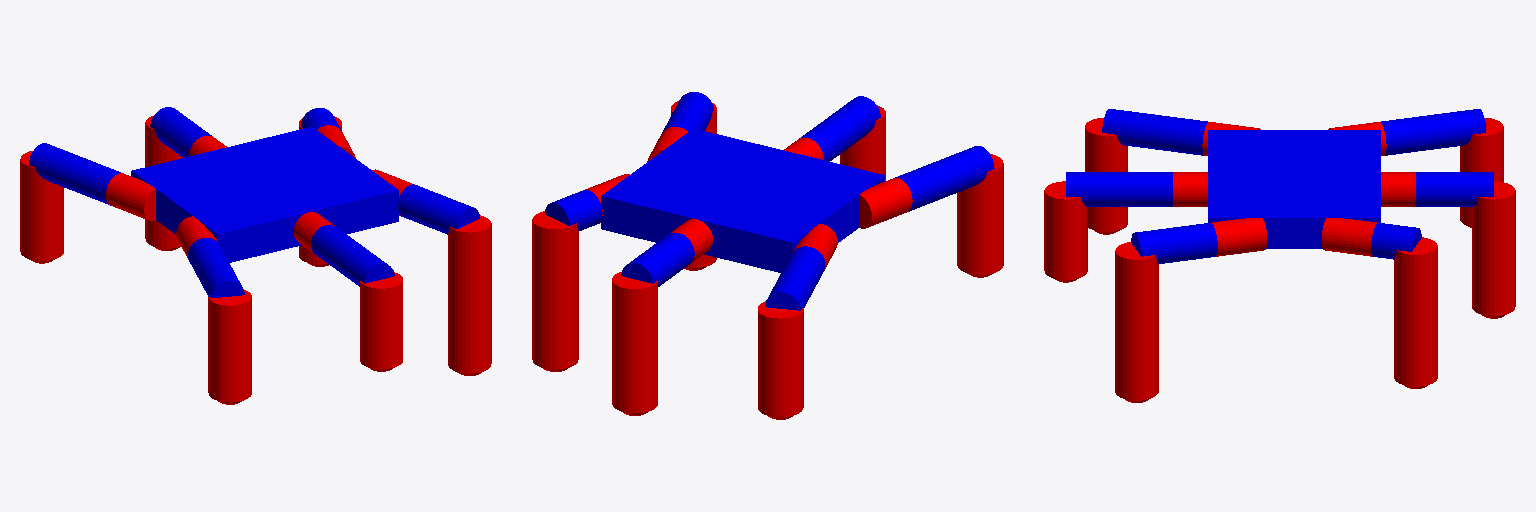
--- What the picture shows (computed from the rendered views, not written in the file) ---
Views: 3 orthographic renders of the robot side by side, from view 1: azimuth 30°, elevation 25°; view 2: azimuth 150°, elevation 25°; view 3: azimuth 270°, elevation 25°.
Model pexod with 19 links and 18 joints (18 revolute), rooted at base_link, posed every joint at zero.
Links seen in each view (by area): view 1: base_link, leg_3_3, leg_5_3, leg_4_3, leg_0_3, leg_0_2, leg_4_2, leg_3_2, leg_5_2, leg_0_1, leg_1_2, leg_1_3 (+3 smaller); view 2: base_link, leg_2_3, leg_1_3, leg_0_3, leg_5_3, leg_5_2, leg_4_2, leg_0_2, leg_1_2, leg_5_1, leg_4_3, leg_2_2 (+4 smaller); view 3: base_link, leg_3_3, leg_2_3, leg_1_3, leg_4_3, leg_4_2, leg_5_2, leg_0_2, leg_5_3, leg_3_2, leg_1_2, leg_0_3 (+5 smaller).
Link boxes in pixels (x1=…): base_link: x1=131, y1=127, x2=398, y2=262; leg_3_3: x1=448, y1=215, x2=491, y2=375; leg_5_3: x1=208, y1=290, x2=251, y2=404; leg_4_3: x1=360, y1=272, x2=402, y2=371; leg_0_3: x1=20, y1=151, x2=63, y2=263; leg_0_2: x1=29, y1=143, x2=120, y2=205; leg_4_2: x1=311, y1=225, x2=394, y2=286; leg_3_2: x1=398, y1=184, x2=479, y2=234; leg_5_2: x1=188, y1=238, x2=244, y2=297; leg_0_1: x1=106, y1=173, x2=155, y2=220; leg_1_2: x1=150, y1=107, x2=211, y2=157; leg_1_3: x1=145, y1=116, x2=182, y2=250; base_link: x1=601, y1=128, x2=884, y2=272; leg_2_3: x1=532, y1=211, x2=578, y2=371; leg_1_3: x1=612, y1=272, x2=657, y2=415; leg_0_3: x1=758, y1=301, x2=803, y2=419; leg_5_3: x1=957, y1=154, x2=1003, y2=277; leg_5_2: x1=895, y1=146, x2=994, y2=211; leg_4_2: x1=799, y1=96, x2=880, y2=161; leg_0_2: x1=765, y1=246, x2=824, y2=310; leg_1_2: x1=621, y1=232, x2=694, y2=286; leg_5_1: x1=859, y1=178, x2=912, y2=228; leg_4_3: x1=840, y1=105, x2=885, y2=180; leg_2_2: x1=545, y1=190, x2=602, y2=230; base_link: x1=1208, y1=130, x2=1380, y2=248; leg_3_3: x1=1115, y1=242, x2=1158, y2=402; leg_2_3: x1=1394, y1=237, x2=1437, y2=388; leg_1_3: x1=1472, y1=181, x2=1515, y2=318; leg_4_3: x1=1044, y1=181, x2=1087, y2=282; leg_4_2: x1=1066, y1=172, x2=1172, y2=206; leg_5_2: x1=1102, y1=109, x2=1207, y2=155; leg_0_2: x1=1381, y1=109, x2=1485, y2=155; leg_5_3: x1=1085, y1=118, x2=1127, y2=234; leg_3_2: x1=1131, y1=223, x2=1217, y2=263; leg_1_2: x1=1416, y1=172, x2=1493, y2=206; leg_0_3: x1=1460, y1=118, x2=1503, y2=227.
Size in the robot's own frame: 0.3883 by 0.5433 by 0.2118 metres.
Geometry: primitives only (box / cylinder / sphere), no mesh files.

robot.urdf — pexod:
<?xml version="1.0" ?>
<!-- =================================================================================== -->
<!-- |    This document was autogenerated by xacro from pexod.xacro                    | -->
<!-- |    EDITING THIS FILE BY HAND IS NOT RECOMMENDED                                 | -->
<!-- =================================================================================== -->
<robot name="pexod" xmlns:xacro="http://www.ros.org/wiki/xacro">
  <!-- <xacro:include filename="$(find pexod_description)/urdf/pexod_control.xacro" /> -->
  <!-- MATERIALS -->
  <material name="Blue">
    <color rgba="0 0 1 1"/>
  </material>
  <material name="Red">
    <color rgba="1 0 0 1"/>
  </material>
  <material name="Green">
    <color rgba="0 1 0 1"/>
  </material>
  <material name="Yellow">
    <color rgba="1 1 0 1"/>
  </material>
  <material name="LightGrey">
    <color rgba="0.6 0.6 0.6 1.0"/>
  </material>
  <!-- END OF MATERIALS -->
  <!-- XACRO MACROS FOR VISUALS AND COLLISIONS -->
  <!-- END OF XACRO MACROS -->
  <!-- TORSO -->
  <link name="base_link">
    <visual>
      <origin rpy="0 0 0" xyz="0 0 0"/>
      <geometry>
        <box size="0.24 0.2 0.04"/>
      </geometry>
      <material name="Blue"/>
    </visual>
    <collision>
      <origin rpy="0 0 0" xyz="0 0 0"/>
      <geometry>
        <box size="0.24 0.2 0.04"/>
      </geometry>
    </collision>
    <inertial>
      <!-- CENTER OF MASS -->
      <origin rpy="0 0 0" xyz="0 0 0"/>
      <mass value="1.031"/>
      <!-- box inertia: 1/12*m(y^2+z^2), ... -->
      <inertia ixx="0.00357413333333" ixy="0" ixz="0" iyy="0.00508626666667" iyz="0" izz="0.00838546666667"/>
    </inertial>
  </link>
  <!-- XACRO MACRO FOR LEGS LINKS/JOINTS -->
  <!-- END OF LEG LINKS/JOINTS -->
  <joint name="body_leg_2" type="revolute">
    <parent link="base_link"/>
    <child link="leg_2_1"/>
    <limit effort="30.0" lower="-1.57079632679" upper="1.57079632679" velocity="7.0"/>
    <origin rpy="0 0 -0.3" xyz="0.11 0.04 0"/>
    <!-- <xacro:if value="${index == 5 or index == 4 or index == 3}">
                <axis xyz="0 0 1"/>
            </xacro:if>
            <xacro:if value="${index == 2 or index == 1 or index == 0}"> -->
    <axis xyz="0 0 1"/>
    <!-- </xacro:if> -->
    <dynamics damping="0.0"/>
  </joint>
  <link name="leg_2_1">
    <visual>
      <origin rpy="1.57079632679 0 0" xyz="0.01 0.03 0"/>
      <geometry>
        <cylinder length="0.06" radius="0.02"/>
      </geometry>
      <material name="Red"/>
    </visual>
    <collision>
      <origin rpy="1.57079632679 0 0" xyz="0.01 0.03 0"/>
      <geometry>
        <box size="0.02 0.02 0.06"/>
      </geometry>
    </collision>
    <inertial>
      <!-- CENTER OF MASS -->
      <origin rpy="1.57079632679 0 0" xyz="0.01 0.03 0"/>
      <mass value="0.02"/>
      <!-- box inertia: 1/12*m(y^2+z^2), ... -->
      <inertia ixx="6.66666666667e-06" ixy="0" ixz="0" iyy="6.66666666667e-06" iyz="0" izz="1.33333333333e-06"/>
    </inertial>
  </link>
  <joint name="leg_2_1_2" type="revolute">
    <parent link="leg_2_1"/>
    <child link="leg_2_2"/>
    <limit effort="30.0" lower="-0.78539816339" upper="0.78539816339" velocity="7.0"/>
    <origin rpy="0 0 0" xyz="0 0.06 0"/>
    <axis xyz="1 0 0"/>
    <dynamics damping="0.0"/>
  </joint>
  <link name="leg_2_2">
    <visual>
      <origin rpy="1.57079632679 0 0" xyz="0.01 0.0243115780468 0"/>
      <geometry>
        <cylinder length="0.0486231560936" radius="0.02"/>
      </geometry>
      <material name="Blue"/>
    </visual>
    <collision>
      <origin rpy="1.57079632679 0 0" xyz="0.01 0.0243115780468 0"/>
      <geometry>
        <box size="0.02 0.02 0.0486231560936"/>
      </geometry>
    </collision>
    <inertial>
      <!-- CENTER OF MASS -->
      <origin rpy="1.57079632679 0 0" xyz="0.01 0.0243115780468 0"/>
      <mass value="0.184"/>
      <!-- box inertia: 1/12*m(y^2+z^2), ... -->
      <inertia ixx="4.2384573397e-05" ixy="0" ixz="0" iyy="4.2384573397e-05" iyz="0" izz="1.22666666667e-05"/>
    </inertial>
  </link>
  <joint name="leg_2_2_3" type="revolute">
    <parent link="leg_2_2"/>
    <child link="leg_2_3"/>
    <limit effort="30.0" lower="-0.78539816339" upper="0.78539816339" velocity="7.0"/>
    <origin rpy="-1.57079632679 0 0" xyz="0 0.0486231560936 0"/>
    <axis xyz="-1 0 0"/>
    <dynamics damping="0.0"/>
  </joint>
  <link name="leg_2_3">
    <visual>
      <origin rpy="1.57079632679 0 0" xyz="0.0125 0.083790376403 0"/>
      <geometry>
        <cylinder length="0.167580752806" radius="0.025"/>
      </geometry>
      <material name="Red"/>
    </visual>
    <visual>
      <origin rpy="1.57079632679 0 0" xyz="0.0125 0.155080752806 0"/>
      <geometry>
        <sphere radius="0.025"/>
      </geometry>
      <material name="Red"/>
    </visual>
    <collision>
      <origin rpy="1.57079632679 0 0" xyz="0.0125 0.083790376403 0"/>
      <geometry>
        <box size="0.025 0.025 0.167580752806"/>
      </geometry>
    </collision>
    <collision>
      <origin rpy="1.57079632679 0 0" xyz="0.0125 0.155080752806 0"/>
      <geometry>
        <sphere radius="0.025"/>
      </geometry>
      <material name="Red"/>
    </collision>
    <inertial>
      <!-- CENTER OF MASS -->
      <origin rpy="1.57079632679 0 0" xyz="0.0125 0.083790376403 0"/>
      <mass value="0.04"/>
      <!-- box inertia: 1/12*m(y^2+z^2), ... -->
      <inertia ixx="9.56943623701e-05" ixy="0" ixz="0" iyy="9.56943623701e-05" iyz="0" izz="4.16666666667e-06"/>
    </inertial>
  </link>
  <joint name="body_leg_3" type="revolute">
    <parent link="base_link"/>
    <child link="leg_3_1"/>
    <limit effort="30.0" lower="-1.57079632679" upper="1.57079632679" velocity="7.0"/>
    <origin rpy="0 0 0.3" xyz="0.11 -0.04 0"/>
    <!-- <xacro:if value="${index == 5 or index == 4 or index == 3}">
                <axis xyz="0 0 1"/>
            </xacro:if>
            <xacro:if value="${index == 2 or index == 1 or index == 0}"> -->
    <axis xyz="0 0 1"/>
    <!-- </xacro:if> -->
    <dynamics damping="0.0"/>
  </joint>
  <link name="leg_3_1">
    <visual>
      <origin rpy="1.57079632679 0 0" xyz="0.01 -0.03 0"/>
      <geometry>
        <cylinder length="0.06" radius="0.02"/>
      </geometry>
      <material name="Red"/>
    </visual>
    <collision>
      <origin rpy="1.57079632679 0 0" xyz="0.01 -0.03 0"/>
      <geometry>
        <box size="0.02 0.02 0.06"/>
      </geometry>
    </collision>
    <inertial>
      <!-- CENTER OF MASS -->
      <origin rpy="1.57079632679 0 0" xyz="0.01 -0.03 0"/>
      <mass value="0.02"/>
      <!-- box inertia: 1/12*m(y^2+z^2), ... -->
      <inertia ixx="6.66666666667e-06" ixy="0" ixz="0" iyy="6.66666666667e-06" iyz="0" izz="1.33333333333e-06"/>
    </inertial>
  </link>
  <joint name="leg_3_1_2" type="revolute">
    <parent link="leg_3_1"/>
    <child link="leg_3_2"/>
    <limit effort="30.0" lower="-0.78539816339" upper="0.78539816339" velocity="7.0"/>
    <origin rpy="0 0 0" xyz="0 -0.06 0"/>
    <axis xyz="-1 0 0"/>
    <dynamics damping="0.0"/>
  </joint>
  <link name="leg_3_2">
    <visual>
      <origin rpy="1.57079632679 0 0" xyz="0.01 -0.046097969077 0"/>
      <geometry>
        <cylinder length="0.092195938154" radius="0.02"/>
      </geometry>
      <material name="Blue"/>
    </visual>
    <collision>
      <origin rpy="1.57079632679 0 0" xyz="0.01 -0.046097969077 0"/>
      <geometry>
        <box size="0.02 0.02 0.092195938154"/>
      </geometry>
    </collision>
    <inertial>
      <!-- CENTER OF MASS -->
      <origin rpy="1.57079632679 0 0" xyz="0.01 -0.046097969077 0"/>
      <mass value="0.184"/>
      <!-- box inertia: 1/12*m(y^2+z^2), ... -->
      <inertia ixx="0.000136468062185" ixy="0" ixz="0" iyy="0.000136468062185" iyz="0" izz="1.22666666667e-05"/>
    </inertial>
  </link>
  <joint name="leg_3_2_3" type="revolute">
    <parent link="leg_3_2"/>
    <child link="leg_3_3"/>
    <limit effort="30.0" lower="-0.78539816339" upper="0.78539816339" velocity="7.0"/>
    <origin rpy="1.57079632679 0 0" xyz="0 -0.092195938154 0"/>
    <axis xyz="1 0 0"/>
    <dynamics damping="0.0"/>
  </joint>
  <link name="leg_3_3">
    <visual>
      <origin rpy="1.57079632679 0 0" xyz="0.0125 -0.089656871717 0"/>
      <geometry>
        <cylinder length="0.179313743434" radius="0.025"/>
      </geometry>
      <material name="Red"/>
    </visual>
    <visual>
      <origin rpy="1.57079632679 0 0" xyz="0.0125 -0.166813743434 0"/>
      <geometry>
        <sphere radius="0.025"/>
      </geometry>
      <material name="Red"/>
    </visual>
    <collision>
      <origin rpy="1.57079632679 0 0" xyz="0.0125 -0.089656871717 0"/>
      <geometry>
        <box size="0.025 0.025 0.179313743434"/>
      </geometry>
    </collision>
    <collision>
      <origin rpy="1.57079632679 0 0" xyz="0.0125 -0.166813743434 0"/>
      <geometry>
        <sphere radius="0.025"/>
      </geometry>
      <material name="Red"/>
    </collision>
    <inertial>
      <!-- CENTER OF MASS -->
      <origin rpy="1.57079632679 0 0" xyz="0.0125 -0.089656871717 0"/>
      <mass value="0.04"/>
      <!-- box inertia: 1/12*m(y^2+z^2), ... -->
      <inertia ixx="0.000109261395281" ixy="0" ixz="0" iyy="0.000109261395281" iyz="0" izz="4.16666666667e-06"/>
    </inertial>
  </link>
  <joint name="body_leg_0" type="revolute">
    <parent link="base_link"/>
    <child link="leg_0_1"/>
    <limit effort="30.0" lower="-1.57079632679" upper="1.57079632679" velocity="7.0"/>
    <origin rpy="0 0 0.3" xyz="-0.13 0.04 0"/>
    <!-- <xacro:if value="${index == 5 or index == 4 or index == 3}">
                <axis xyz="0 0 1"/>
            </xacro:if>
            <xacro:if value="${index == 2 or index == 1 or index == 0}"> -->
    <axis xyz="0 0 1"/>
    <!-- </xacro:if> -->
    <dynamics damping="0.0"/>
  </joint>
  <link name="leg_0_1">
    <visual>
      <origin rpy="1.57079632679 0 0" xyz="0.01 0.03 0"/>
      <geometry>
        <cylinder length="0.06" radius="0.02"/>
      </geometry>
      <material name="Red"/>
    </visual>
    <collision>
      <origin rpy="1.57079632679 0 0" xyz="0.01 0.03 0"/>
      <geometry>
        <box size="0.02 0.02 0.06"/>
      </geometry>
    </collision>
    <inertial>
      <!-- CENTER OF MASS -->
      <origin rpy="1.57079632679 0 0" xyz="0.01 0.03 0"/>
      <mass value="0.02"/>
      <!-- box inertia: 1/12*m(y^2+z^2), ... -->
      <inertia ixx="6.66666666667e-06" ixy="0" ixz="0" iyy="6.66666666667e-06" iyz="0" izz="1.33333333333e-06"/>
    </inertial>
  </link>
  <joint name="leg_0_1_2" type="revolute">
    <parent link="leg_0_1"/>
    <child link="leg_0_2"/>
    <limit effort="30.0" lower="-0.78539816339" upper="0.78539816339" velocity="7.0"/>
    <origin rpy="0 0 0" xyz="0 0.06 0"/>
    <axis xyz="1 0 0"/>
    <dynamics damping="0.0"/>
  </joint>
  <link name="leg_0_2">
    <visual>
      <origin rpy="1.57079632679 0 0" xyz="0.01 0.0603075520445 0"/>
      <geometry>
        <cylinder length="0.120615104089" radius="0.02"/>
      </geometry>
      <material name="Blue"/>
    </visual>
    <collision>
      <origin rpy="1.57079632679 0 0" xyz="0.01 0.0603075520445 0"/>
      <geometry>
        <box size="0.02 0.02 0.120615104089"/>
      </geometry>
    </collision>
    <inertial>
      <!-- CENTER OF MASS -->
      <origin rpy="1.57079632679 0 0" xyz="0.01 0.0603075520445 0"/>
      <mass value="0.184"/>
      <!-- box inertia: 1/12*m(y^2+z^2), ... -->
      <inertia ixx="0.000229202717794" ixy="0" ixz="0" iyy="0.000229202717794" iyz="0" izz="1.22666666667e-05"/>
    </inertial>
  </link>
  <joint name="leg_0_2_3" type="revolute">
    <parent link="leg_0_2"/>
    <child link="leg_0_3"/>
    <limit effort="30.0" lower="-0.78539816339" upper="0.78539816339" velocity="7.0"/>
    <origin rpy="-1.57079632679 0 0" xyz="0 0.120615104089 0"/>
    <axis xyz="-1 0 0"/>
    <dynamics damping="0.0"/>
  </joint>
  <link name="leg_0_3">
    <visual>
      <origin rpy="1.57079632679 0 0" xyz="0.0125 0.059010229847 0"/>
      <geometry>
        <cylinder length="0.118020459694" radius="0.025"/>
      </geometry>
      <material name="Red"/>
    </visual>
    <visual>
      <origin rpy="1.57079632679 0 0" xyz="0.0125 0.105520459694 0"/>
      <geometry>
        <sphere radius="0.025"/>
      </geometry>
      <material name="Red"/>
    </visual>
    <collision>
      <origin rpy="1.57079632679 0 0" xyz="0.0125 0.059010229847 0"/>
      <geometry>
        <box size="0.025 0.025 0.118020459694"/>
      </geometry>
    </collision>
    <collision>
      <origin rpy="1.57079632679 0 0" xyz="0.0125 0.105520459694 0"/>
      <geometry>
        <sphere radius="0.025"/>
      </geometry>
      <material name="Red"/>
    </collision>
    <inertial>
      <!-- CENTER OF MASS -->
      <origin rpy="1.57079632679 0 0" xyz="0.0125 0.059010229847 0"/>
      <mass value="0.04"/>
      <!-- box inertia: 1/12*m(y^2+z^2), ... -->
      <inertia ixx="4.85127630213e-05" ixy="0" ixz="0" iyy="4.85127630213e-05" iyz="0" izz="4.16666666667e-06"/>
    </inertial>
  </link>
  <joint name="body_leg_5" type="revolute">
    <parent link="base_link"/>
    <child link="leg_5_1"/>
    <limit effort="30.0" lower="-1.57079632679" upper="1.57079632679" velocity="7.0"/>
    <origin rpy="0 0 -0.3" xyz="-0.13 -0.04 0"/>
    <!-- <xacro:if value="${index == 5 or index == 4 or index == 3}">
                <axis xyz="0 0 1"/>
            </xacro:if>
            <xacro:if value="${index == 2 or index == 1 or index == 0}"> -->
    <axis xyz="0 0 1"/>
    <!-- </xacro:if> -->
    <dynamics damping="0.0"/>
  </joint>
  <link name="leg_5_1">
    <visual>
      <origin rpy="1.57079632679 0 0" xyz="0.01 -0.03 0"/>
      <geometry>
        <cylinder length="0.06" radius="0.02"/>
      </geometry>
      <material name="Red"/>
    </visual>
    <collision>
      <origin rpy="1.57079632679 0 0" xyz="0.01 -0.03 0"/>
      <geometry>
        <box size="0.02 0.02 0.06"/>
      </geometry>
    </collision>
    <inertial>
      <!-- CENTER OF MASS -->
      <origin rpy="1.57079632679 0 0" xyz="0.01 -0.03 0"/>
      <mass value="0.02"/>
      <!-- box inertia: 1/12*m(y^2+z^2), ... -->
      <inertia ixx="6.66666666667e-06" ixy="0" ixz="0" iyy="6.66666666667e-06" iyz="0" izz="1.33333333333e-06"/>
    </inertial>
  </link>
  <joint name="leg_5_1_2" type="revolute">
    <parent link="leg_5_1"/>
    <child link="leg_5_2"/>
    <limit effort="30.0" lower="-0.78539816339" upper="0.78539816339" velocity="7.0"/>
    <origin rpy="0 0 0" xyz="0 -0.06 0"/>
    <axis xyz="-1 0 0"/>
    <dynamics damping="0.0"/>
  </joint>
  <link name="leg_5_2">
    <visual>
      <origin rpy="1.57079632679 0 0" xyz="0.01 -0.060498763742 0"/>
      <geometry>
        <cylinder length="0.120997527484" radius="0.02"/>
      </geometry>
      <material name="Blue"/>
    </visual>
    <collision>
      <origin rpy="1.57079632679 0 0" xyz="0.01 -0.060498763742 0"/>
      <geometry>
        <box size="0.02 0.02 0.120997527484"/>
      </geometry>
    </collision>
    <inertial>
      <!-- CENTER OF MASS -->
      <origin rpy="1.57079632679 0 0" xyz="0.01 -0.060498763742 0"/>
      <mass value="0.184"/>
      <!-- box inertia: 1/12*m(y^2+z^2), ... -->
      <inertia ixx="0.000230619492078" ixy="0" ixz="0" iyy="0.000230619492078" iyz="0" izz="1.22666666667e-05"/>
    </inertial>
  </link>
  <joint name="leg_5_2_3" type="revolute">
    <parent link="leg_5_2"/>
    <child link="leg_5_3"/>
    <limit effort="30.0" lower="-0.78539816339" upper="0.78539816339" velocity="7.0"/>
    <origin rpy="1.57079632679 0 0" xyz="0 -0.120997527484 0"/>
    <axis xyz="1 0 0"/>
    <dynamics damping="0.0"/>
  </joint>
  <link name="leg_5_3">
    <visual>
      <origin rpy="1.57079632679 0 0" xyz="0.0125 -0.0613039084905 0"/>
      <geometry>
        <cylinder length="0.122607816981" radius="0.025"/>
      </geometry>
      <material name="Red"/>
    </visual>
    <visual>
      <origin rpy="1.57079632679 0 0" xyz="0.0125 -0.110107816981 0"/>
      <geometry>
        <sphere radius="0.025"/>
      </geometry>
      <material name="Red"/>
    </visual>
    <collision>
      <origin rpy="1.57079632679 0 0" xyz="0.0125 -0.0613039084905 0"/>
      <geometry>
        <box size="0.025 0.025 0.122607816981"/>
      </geometry>
    </collision>
    <collision>
      <origin rpy="1.57079632679 0 0" xyz="0.0125 -0.110107816981 0"/>
      <geometry>
        <sphere radius="0.025"/>
      </geometry>
      <material name="Red"/>
    </collision>
    <inertial>
      <!-- CENTER OF MASS -->
      <origin rpy="1.57079632679 0 0" xyz="0.0125 -0.0613039084905 0"/>
      <mass value="0.04"/>
      <!-- box inertia: 1/12*m(y^2+z^2), ... -->
      <inertia ixx="5.21922559495e-05" ixy="0" ixz="0" iyy="5.21922559495e-05" iyz="0" izz="4.16666666667e-06"/>
    </inertial>
  </link>
  <joint name="body_leg_1" type="revolute">
    <parent link="base_link"/>
    <child link="leg_1_1"/>
    <limit effort="30.0" lower="-1.57079632679" upper="1.57079632679" velocity="7.0"/>
    <origin rpy="0 0 0" xyz="-0.01 0.08 0"/>
    <!-- <xacro:if value="${index == 5 or index == 4 or index == 3}">
                <axis xyz="0 0 1"/>
            </xacro:if>
            <xacro:if value="${index == 2 or index == 1 or index == 0}"> -->
    <axis xyz="0 0 1"/>
    <!-- </xacro:if> -->
    <dynamics damping="0.0"/>
  </joint>
  <link name="leg_1_1">
    <visual>
      <origin rpy="1.57079632679 0 0" xyz="0.01 0.03 0"/>
      <geometry>
        <cylinder length="0.06" radius="0.02"/>
      </geometry>
      <material name="Red"/>
    </visual>
    <collision>
      <origin rpy="1.57079632679 0 0" xyz="0.01 0.03 0"/>
      <geometry>
        <box size="0.02 0.02 0.06"/>
      </geometry>
    </collision>
    <inertial>
      <!-- CENTER OF MASS -->
      <origin rpy="1.57079632679 0 0" xyz="0.01 0.03 0"/>
      <mass value="0.02"/>
      <!-- box inertia: 1/12*m(y^2+z^2), ... -->
      <inertia ixx="6.66666666667e-06" ixy="0" ixz="0" iyy="6.66666666667e-06" iyz="0" izz="1.33333333333e-06"/>
    </inertial>
  </link>
  <joint name="leg_1_1_2" type="revolute">
    <parent link="leg_1_1"/>
    <child link="leg_1_2"/>
    <limit effort="30.0" lower="-0.78539816339" upper="0.78539816339" velocity="7.0"/>
    <origin rpy="0 0 0" xyz="0 0.06 0"/>
    <axis xyz="1 0 0"/>
    <dynamics damping="0.0"/>
  </joint>
  <link name="leg_1_2">
    <visual>
      <origin rpy="1.57079632679 0 0" xyz="0.01 0.0449543538672 0"/>
      <geometry>
        <cylinder length="0.0899087077344" radius="0.02"/>
      </geometry>
      <material name="Blue"/>
    </visual>
    <collision>
      <origin rpy="1.57079632679 0 0" xyz="0.01 0.0449543538672 0"/>
      <geometry>
        <box size="0.02 0.02 0.0899087077344"/>
      </geometry>
    </collision>
    <inertial>
      <!-- CENTER OF MASS -->
      <origin rpy="1.57079632679 0 0" xyz="0.01 0.0449543538672 0"/>
      <mass value="0.184"/>
      <!-- box inertia: 1/12*m(y^2+z^2), ... -->
      <inertia ixx="0.000130081494473" ixy="0" ixz="0" iyy="0.000130081494473" iyz="0" izz="1.22666666667e-05"/>
    </inertial>
  </link>
  <joint name="leg_1_2_3" type="revolute">
    <parent link="leg_1_2"/>
    <child link="leg_1_3"/>
    <limit effort="30.0" lower="-0.78539816339" upper="0.78539816339" velocity="7.0"/>
    <origin rpy="-1.57079632679 0 0" xyz="0 0.0899087077344 0"/>
    <axis xyz="-1 0 0"/>
    <dynamics damping="0.0"/>
  </joint>
  <link name="leg_1_3">
    <visual>
      <origin rpy="1.57079632679 0 0" xyz="0.0125 0.074234941339 0"/>
      <geometry>
        <cylinder length="0.148469882678" radius="0.025"/>
      </geometry>
      <material name="Red"/>
    </visual>
    <visual>
      <origin rpy="1.57079632679 0 0" xyz="0.0125 0.135969882678 0"/>
      <geometry>
        <sphere radius="0.025"/>
      </geometry>
      <material name="Red"/>
    </visual>
    <collision>
      <origin rpy="1.57079632679 0 0" xyz="0.0125 0.074234941339 0"/>
      <geometry>
        <box size="0.025 0.025 0.148469882678"/>
      </geometry>
    </collision>
    <collision>
      <origin rpy="1.57079632679 0 0" xyz="0.0125 0.135969882678 0"/>
      <geometry>
        <sphere radius="0.025"/>
      </geometry>
      <material name="Red"/>
    </collision>
    <inertial>
      <!-- CENTER OF MASS -->
      <origin rpy="1.57079632679 0 0" xyz="0.0125 0.074234941339 0"/>
      <mass value="0.04"/>
      <!-- box inertia: 1/12*m(y^2+z^2), ... -->
      <inertia ixx="7.55610202081e-05" ixy="0" ixz="0" iyy="7.55610202081e-05" iyz="0" izz="4.16666666667e-06"/>
    </inertial>
  </link>
  <joint name="body_leg_4" type="revolute">
    <parent link="base_link"/>
    <child link="leg_4_1"/>
    <limit effort="30.0" lower="-1.57079632679" upper="1.57079632679" velocity="7.0"/>
    <origin rpy="0 0 0" xyz="-0.01 -0.08 0"/>
    <!-- <xacro:if value="${index == 5 or index == 4 or index == 3}">
                <axis xyz="0 0 1"/>
            </xacro:if>
            <xacro:if value="${index == 2 or index == 1 or index == 0}"> -->
    <axis xyz="0 0 1"/>
    <!-- </xacro:if> -->
    <dynamics damping="0.0"/>
  </joint>
  <link name="leg_4_1">
    <visual>
      <origin rpy="1.57079632679 0 0" xyz="0.01 -0.03 0"/>
      <geometry>
        <cylinder length="0.06" radius="0.02"/>
      </geometry>
      <material name="Red"/>
    </visual>
    <collision>
      <origin rpy="1.57079632679 0 0" xyz="0.01 -0.03 0"/>
      <geometry>
        <box size="0.02 0.02 0.06"/>
      </geometry>
    </collision>
    <inertial>
      <!-- CENTER OF MASS -->
      <origin rpy="1.57079632679 0 0" xyz="0.01 -0.03 0"/>
      <mass value="0.02"/>
      <!-- box inertia: 1/12*m(y^2+z^2), ... -->
      <inertia ixx="6.66666666667e-06" ixy="0" ixz="0" iyy="6.66666666667e-06" iyz="0" izz="1.33333333333e-06"/>
    </inertial>
  </link>
  <joint name="leg_4_1_2" type="revolute">
    <parent link="leg_4_1"/>
    <child link="leg_4_2"/>
    <limit effort="30.0" lower="-0.78539816339" upper="0.78539816339" velocity="7.0"/>
    <origin rpy="0 0 0" xyz="0 -0.06 0"/>
    <axis xyz="-1 0 0"/>
    <dynamics damping="0.0"/>
  </joint>
  <link name="leg_4_2">
    <visual>
      <origin rpy="1.57079632679 0 0" xyz="0.01 -0.0616750873985 0"/>
      <geometry>
        <cylinder length="0.123350174797" radius="0.02"/>
      </geometry>
      <material name="Blue"/>
    </visual>
    <collision>
      <origin rpy="1.57079632679 0 0" xyz="0.01 -0.0616750873985 0"/>
      <geometry>
        <box size="0.02 0.02 0.123350174797"/>
      </geometry>
    </collision>
    <inertial>
      <!-- CENTER OF MASS -->
      <origin rpy="1.57079632679 0 0" xyz="0.01 -0.0616750873985 0"/>
      <mass value="0.184"/>
      <!-- box inertia: 1/12*m(y^2+z^2), ... -->
      <inertia ixx="0.000239434072878" ixy="0" ixz="0" iyy="0.000239434072878" iyz="0" izz="1.22666666667e-05"/>
    </inertial>
  </link>
  <joint name="leg_4_2_3" type="revolute">
    <parent link="leg_4_2"/>
    <child link="leg_4_3"/>
    <limit effort="30.0" lower="-0.78539816339" upper="0.78539816339" velocity="7.0"/>
    <origin rpy="1.57079632679 0 0" xyz="0 -0.123350174797 0"/>
    <axis xyz="1 0 0"/>
    <dynamics damping="0.0"/>
  </joint>
  <link name="leg_4_3">
    <visual>
      <origin rpy="1.57079632679 0 0" xyz="0.0125 -0.051237456853 0"/>
      <geometry>
        <cylinder length="0.102474913706" radius="0.025"/>
      </geometry>
      <material name="Red"/>
    </visual>
    <visual>
      <origin rpy="1.57079632679 0 0" xyz="0.0125 -0.089974913706 0"/>
      <geometry>
        <sphere radius="0.025"/>
      </geometry>
      <material name="Red"/>
    </visual>
    <collision>
      <origin rpy="1.57079632679 0 0" xyz="0.0125 -0.051237456853 0"/>
      <geometry>
        <box size="0.025 0.025 0.102474913706"/>
      </geometry>
    </collision>
    <collision>
      <origin rpy="1.57079632679 0 0" xyz="0.0125 -0.089974913706 0"/>
      <geometry>
        <sphere radius="0.025"/>
      </geometry>
      <material name="Red"/>
    </collision>
    <inertial>
      <!-- CENTER OF MASS -->
      <origin rpy="1.57079632679 0 0" xyz="0.0125 -0.051237456853 0"/>
      <mass value="0.04"/>
      <!-- box inertia: 1/12*m(y^2+z^2), ... -->
      <inertia ixx="3.70870264635e-05" ixy="0" ixz="0" iyy="3.70870264635e-05" iyz="0" izz="4.16666666667e-06"/>
    </inertial>
  </link>
  <!-- END OF LEG LINKS/JOINTS -->
</robot>
